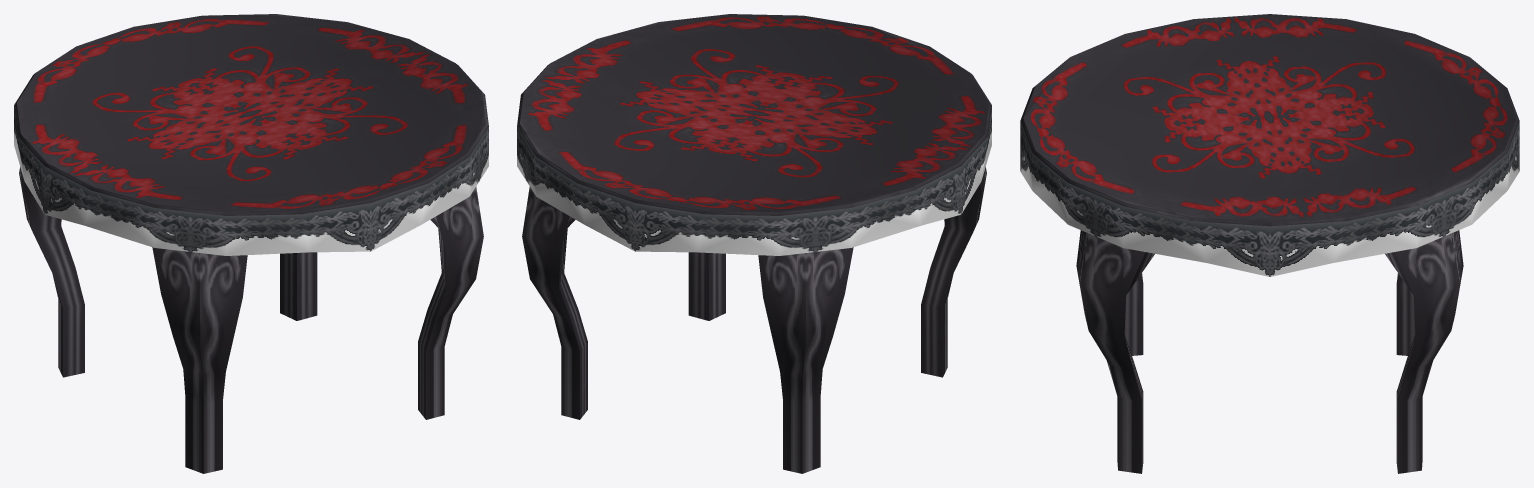
File: VictorianRoundTable_HD.fbx
3 views of the same model, side by side, from view 1: azimuth 30°, elevation 25°; view 2: azimuth 150°, elevation 25°; view 3: azimuth 270°, elevation 25° (orthographic). The views are drawn at different scales.
Visible parts, largest first — view 1: VictorianRoundTable; view 2: VictorianRoundTable; view 3: VictorianRoundTable.
Part boxes in pixels (x1,y1,x2,y2): VictorianRoundTable: (14,14,488,473); VictorianRoundTable: (517,14,991,473); VictorianRoundTable: (1020,14,1519,473).
Size of the model in its own units: 0.941 by 0.6049 by 0.941.
